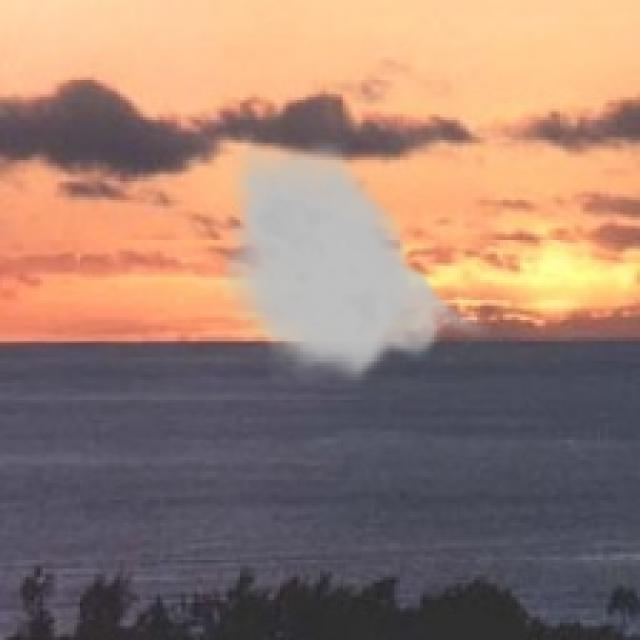smoke: (217, 128, 494, 388)
